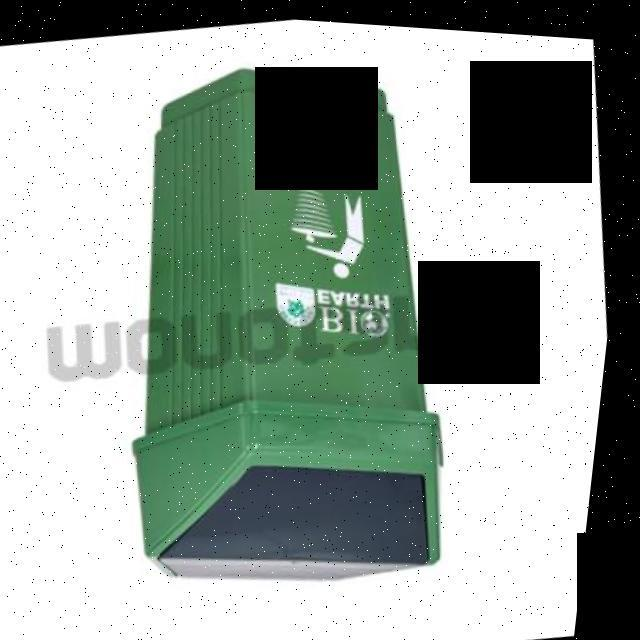bin: (59, 13, 511, 619)
